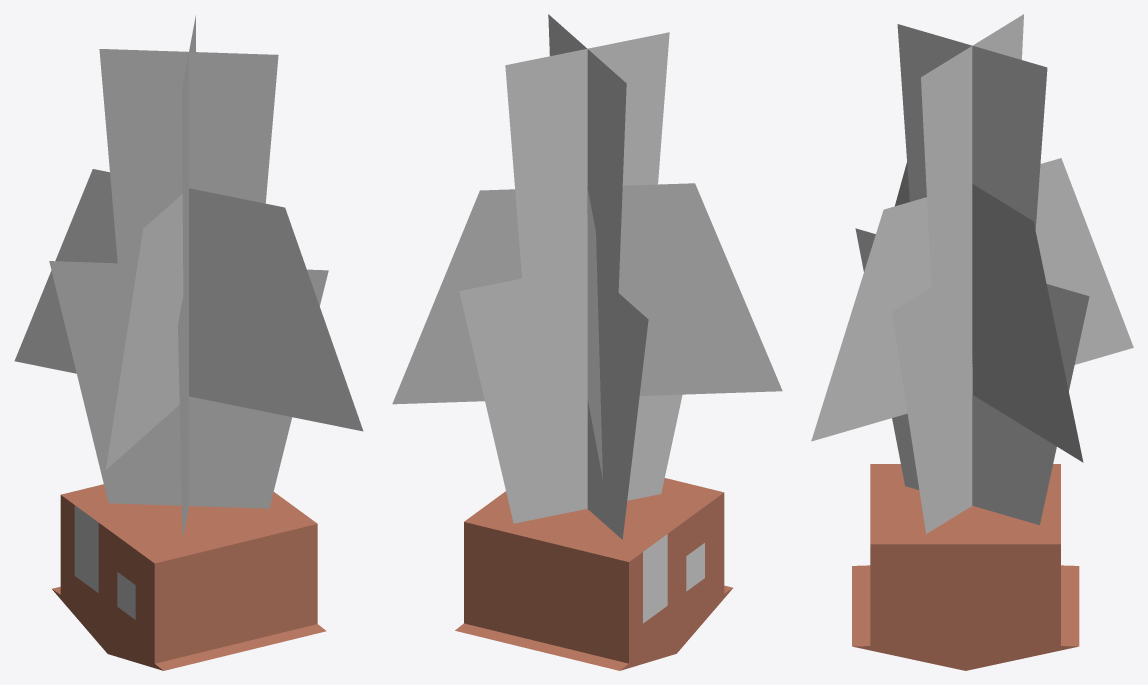
File: FernPot.fbx
3 views of the same model, side by side, from view 1: azimuth 30°, elevation 25°; view 2: azimuth 150°, elevation 25°; view 3: azimuth 270°, elevation 25° (orthographic).
Visible parts, largest first — view 1: Plane.079; view 2: Plane.079; view 3: Plane.079.
Part boxes in pixels (x1,y1,x2,y2): Plane.079: (14, 15, 363, 670); Plane.079: (392, 14, 782, 670); Plane.079: (811, 14, 1133, 670).
Size of the model in its own units: 262 by 525 by 262.
